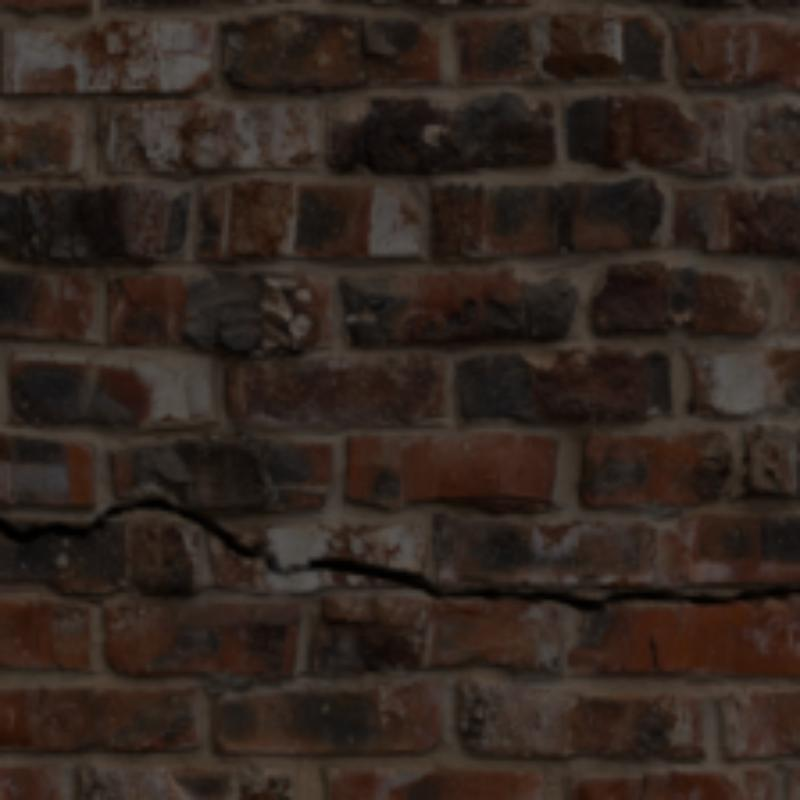pothole: (304, 557, 796, 607), (0, 496, 302, 571)
